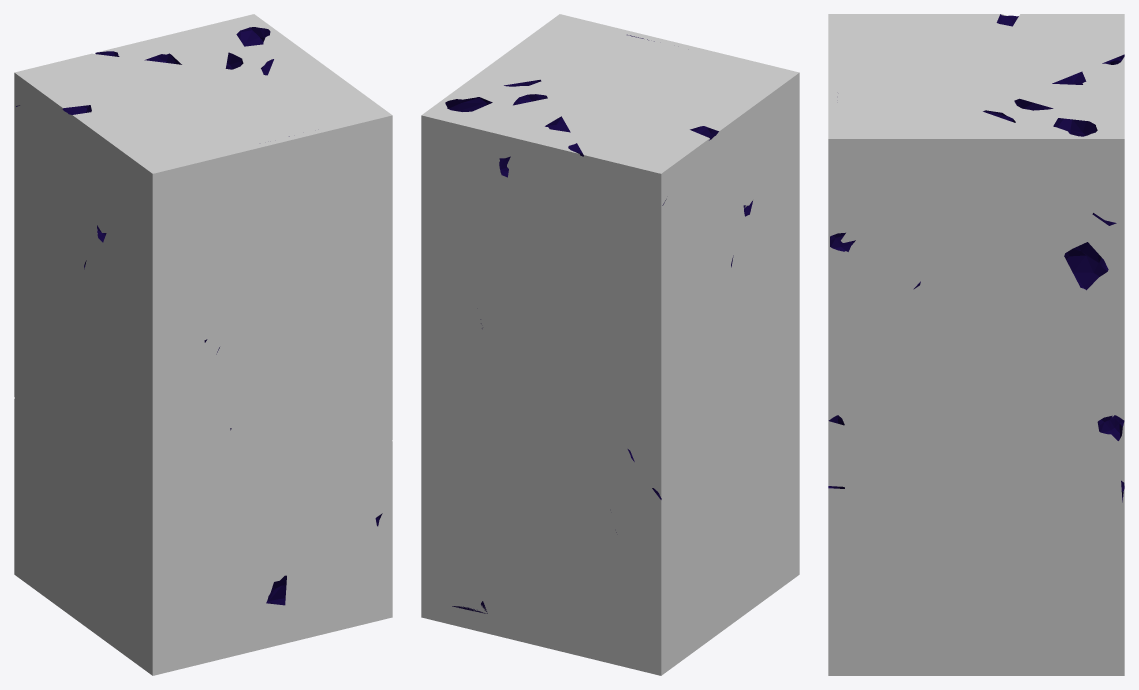
The model's file is rock wall.fbx.
3 renders of one model, left to right at view 1: azimuth 30°, elevation 25°; view 2: azimuth 150°, elevation 25°; view 3: azimuth 270°, elevation 25°, orthographic. The views are drawn at different scales.
Visible parts, largest first — view 1: Cube; view 2: Cube; view 3: Cube.
Boxes of the visible parts, box(x1,y1,x2,y2) form: Cube: box(14, 14, 392, 675); Cube: box(421, 14, 799, 675); Cube: box(828, 14, 1124, 675).
Bounding box in the file's own units: 1 × 2 × 1.
